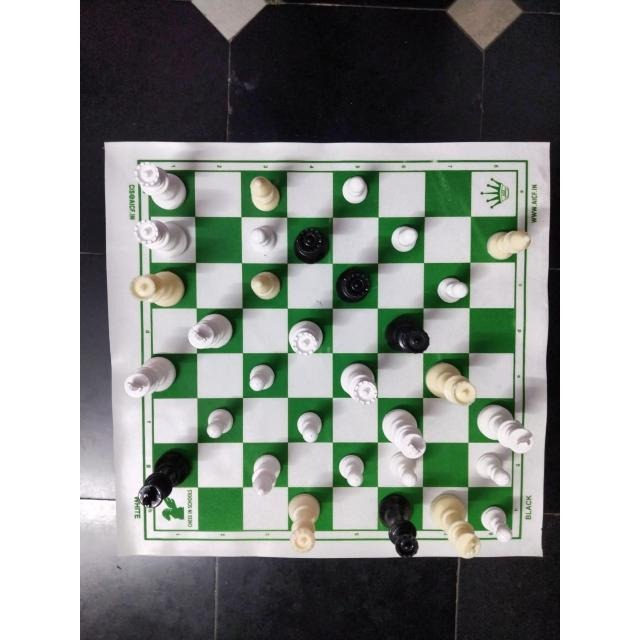black-king: (135, 449, 193, 510)
black-queen: (377, 490, 421, 558), (383, 311, 429, 355), (291, 223, 331, 264), (335, 264, 375, 305)
white-bishop: (483, 222, 533, 262), (244, 449, 284, 495), (246, 267, 282, 306), (248, 173, 282, 213)
white-king: (425, 489, 485, 559), (476, 404, 536, 452), (122, 353, 178, 401), (379, 408, 428, 459), (189, 309, 236, 351)
white-pawn: (473, 452, 515, 489), (479, 506, 515, 546), (199, 406, 238, 442), (432, 272, 469, 308), (291, 409, 327, 445), (335, 449, 367, 489), (388, 222, 424, 257), (339, 173, 374, 208), (243, 363, 278, 397), (391, 453, 422, 489), (246, 221, 278, 255)
white-queen: (131, 160, 189, 212), (425, 355, 479, 406), (132, 217, 191, 259), (126, 268, 185, 308), (287, 492, 324, 553), (336, 360, 380, 408), (288, 319, 328, 357)
